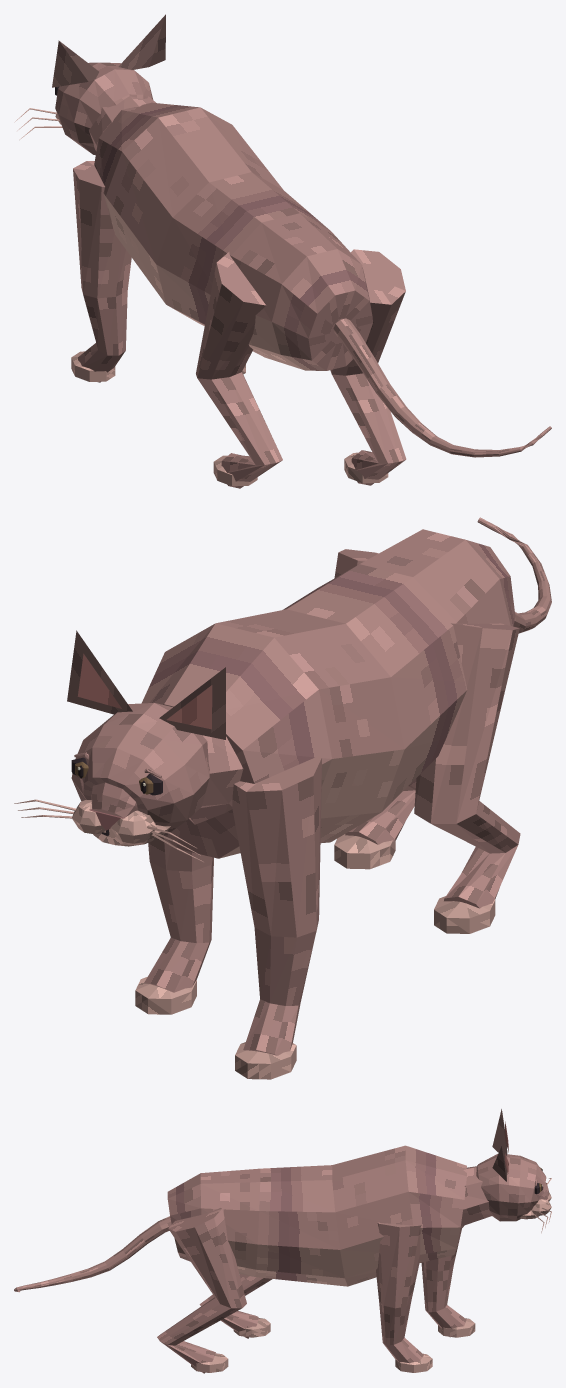
File: mon_cat_sphynx.glb
3 views of the same model, one above another, from view 1: azimuth 30°, elevation 25°; view 2: azimuth 150°, elevation 25°; view 3: azimuth 270°, elevation 25° (orthographic). The views are drawn at different scales.
Visible parts, largest first — view 1: closed_body; view 2: closed_body; view 3: closed_body.
Part boxes in pixels (x1,y1,x2,y2): closed_body: (14,14,551,488); closed_body: (14,517,551,1079); closed_body: (14,1109,551,1373).
Size of the model in its own units: 0.2124 by 0.3649 by 0.7785.
1 material, 1 textured.
